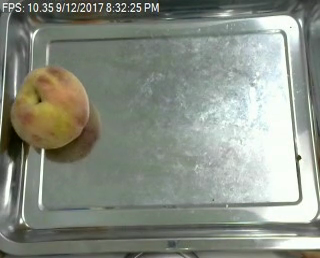Peach: (11, 64, 91, 150)
